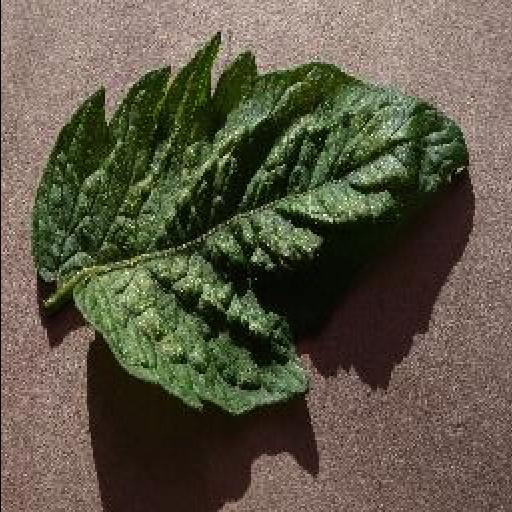disease_tomato: (29, 34, 471, 414)
